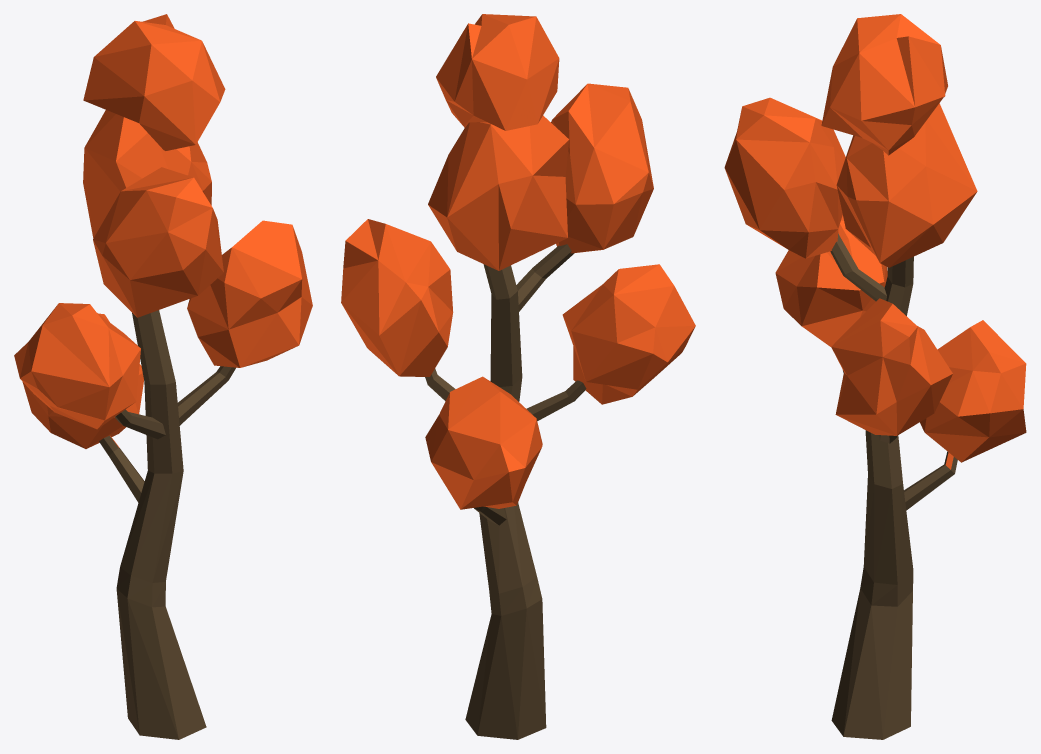
Rendered from highlands_tree2.obj.
3 views of the same model, side by side, from view 1: azimuth 30°, elevation 25°; view 2: azimuth 150°, elevation 25°; view 3: azimuth 270°, elevation 25° (orthographic). The views are drawn at different scales.
Size of the model in its own units: 6.19 by 13.35 by 5.21.
